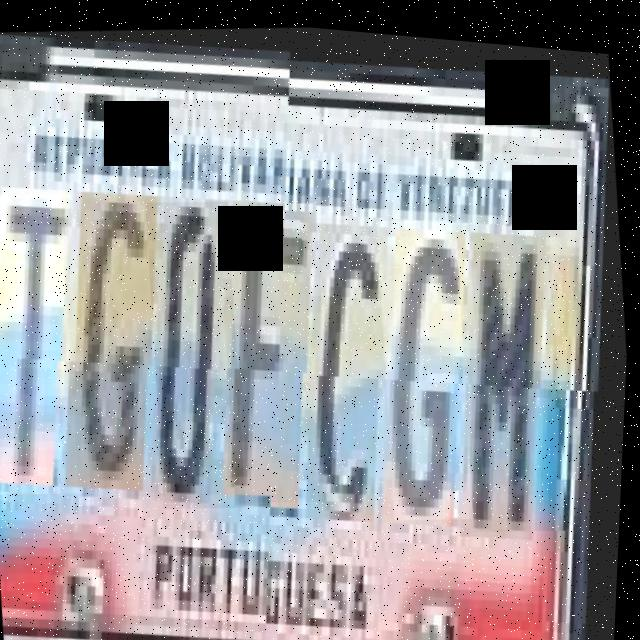0: (136, 191, 260, 511)
C: (292, 203, 423, 516)
F: (208, 190, 348, 506)
G: (53, 186, 193, 502), (367, 204, 503, 519)
M: (447, 206, 583, 529)
T: (0, 186, 105, 500)
